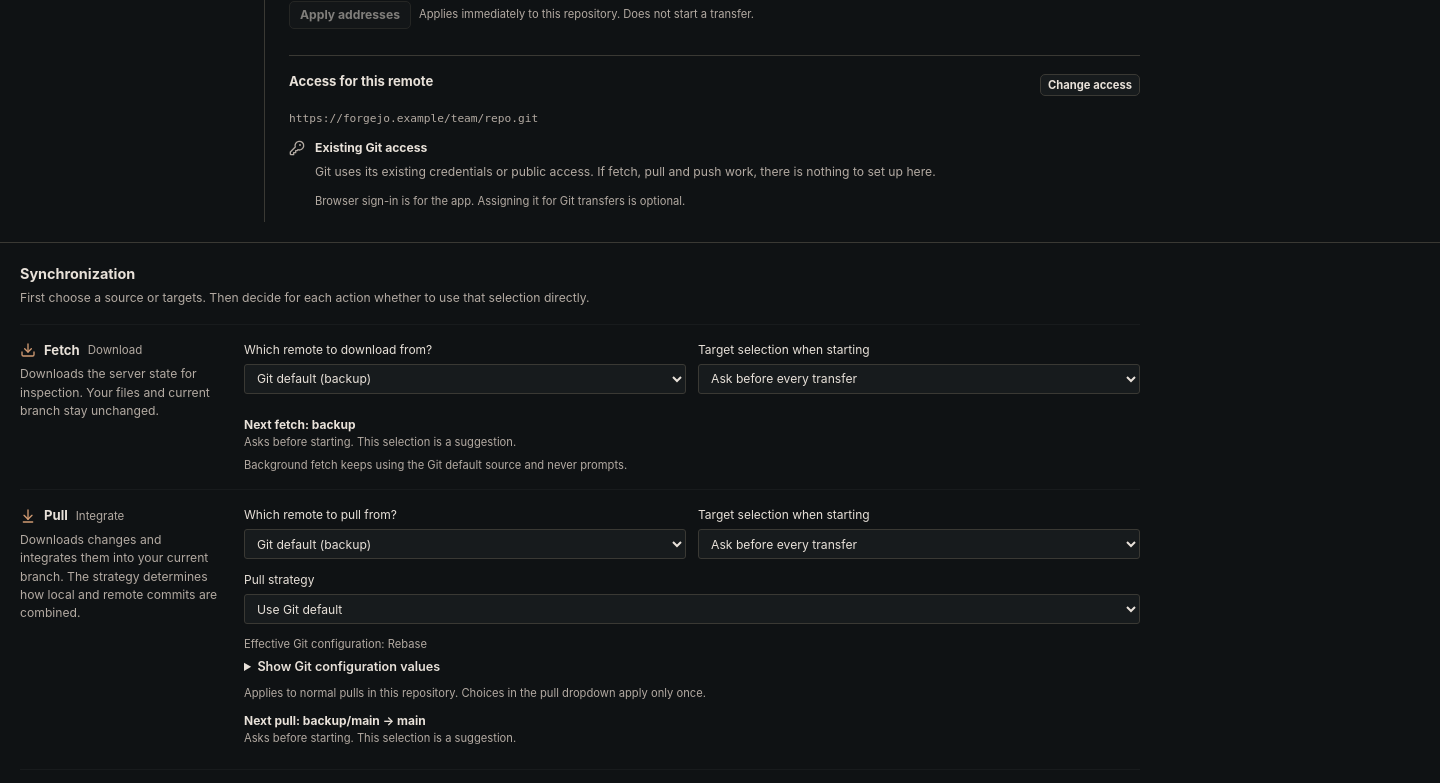
Test: opens and edits a draft without transferring or persisting, then saves independent selections with current identities
The image size is (1440, 783).
(page scrolled)
Select "private · https://forgejo.example/team/repo.git" in the dropdown named "Fetch source" at (465, 379), box [244, 364, 686, 394]
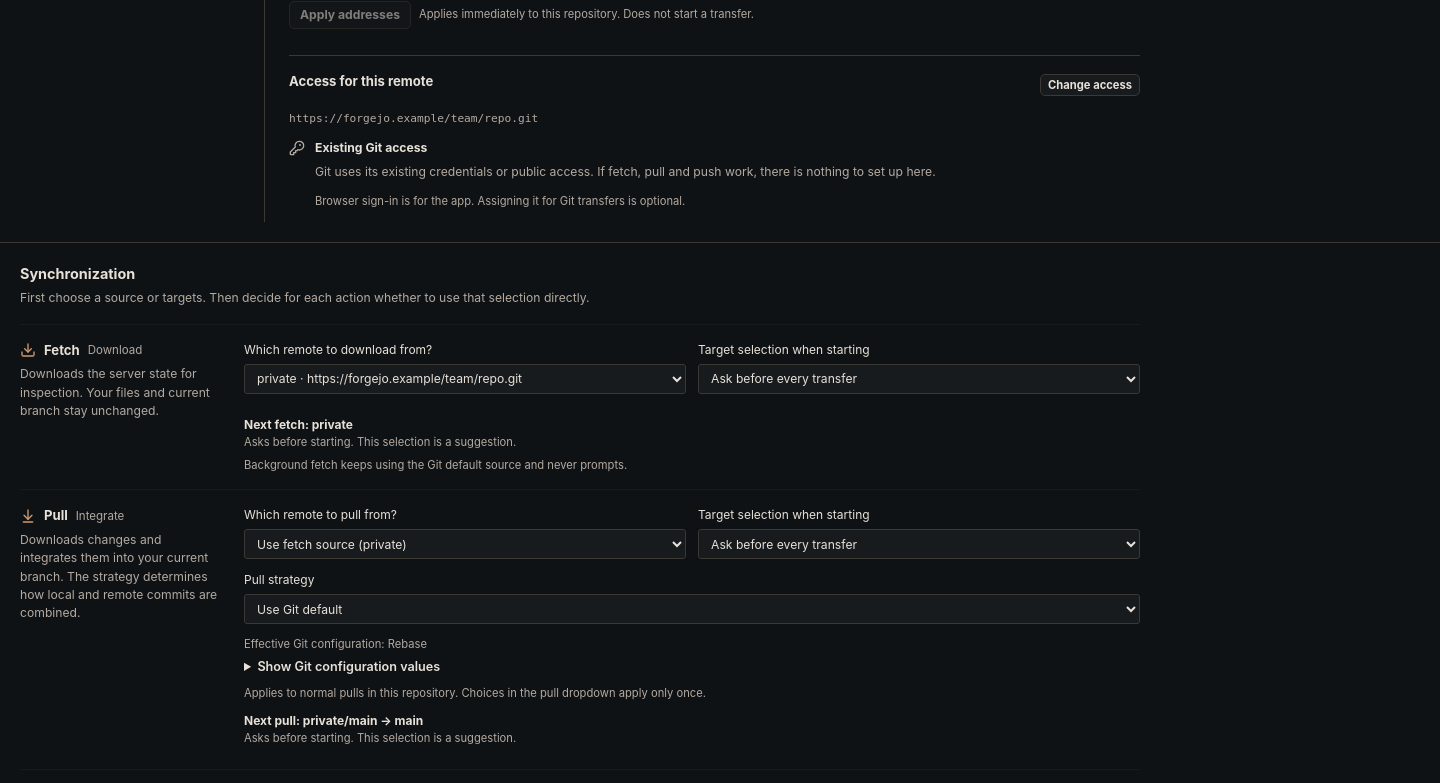
Select "backup · https://github.com/team/repo.git" in the dropdown named "Pull source" at (465, 544), box [244, 529, 686, 559]
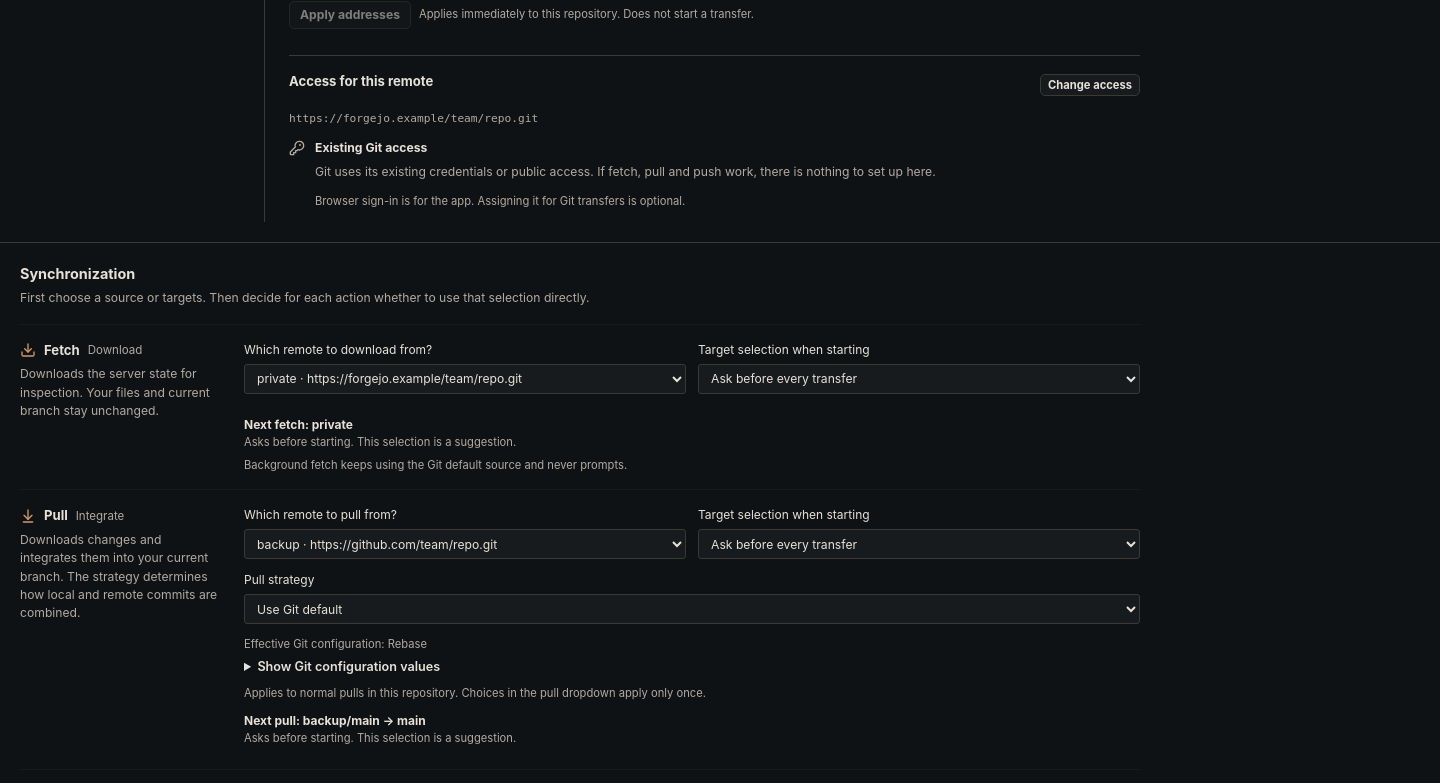
Select "Use this selection directly" in the 1st dropdown labelled "Target selection when starting" at (919, 379), box [698, 364, 1140, 394]
(page scrolled)
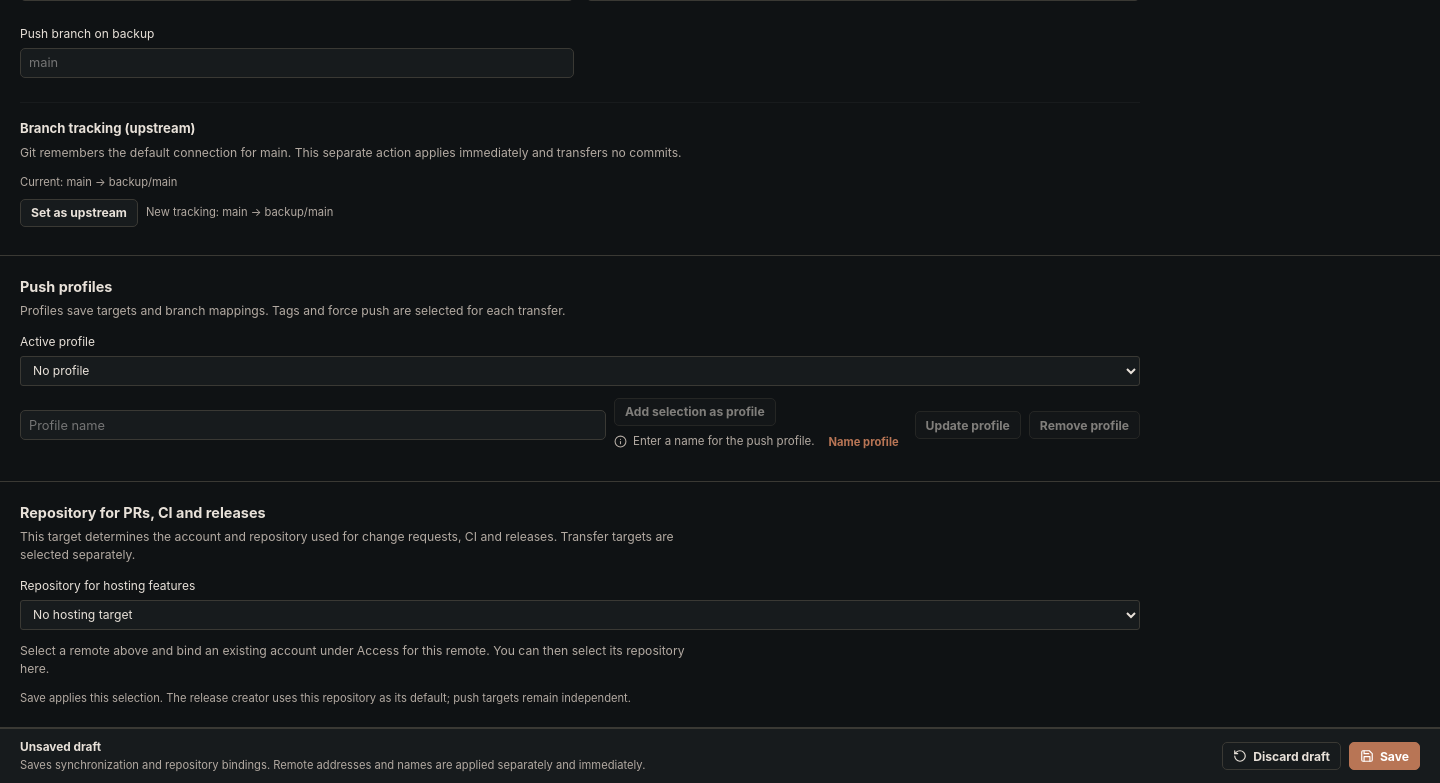
Expected: the text "Unsaved draft" is shown, [20, 740, 101, 754]
Click the button "Save".
click(1384, 756)  # box [1349, 742, 1420, 770]
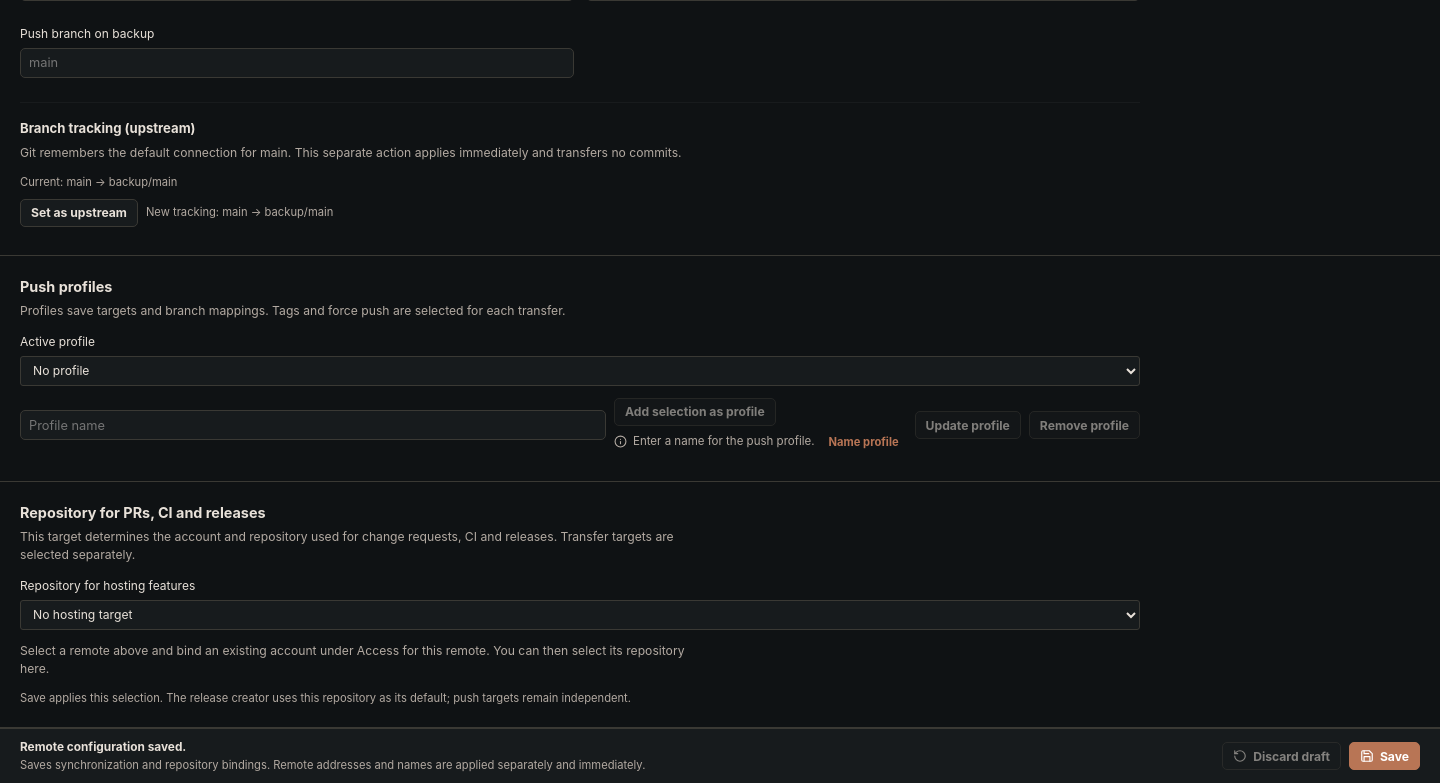
Expected: the text "Remote configuration saved." is shown, [20, 740, 186, 754]
